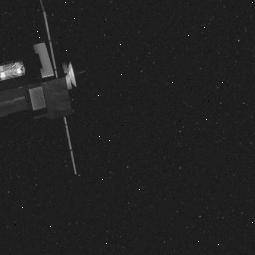soho: (0, 0, 94, 177)
